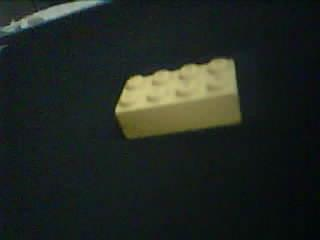lego: (113, 56, 241, 140)
